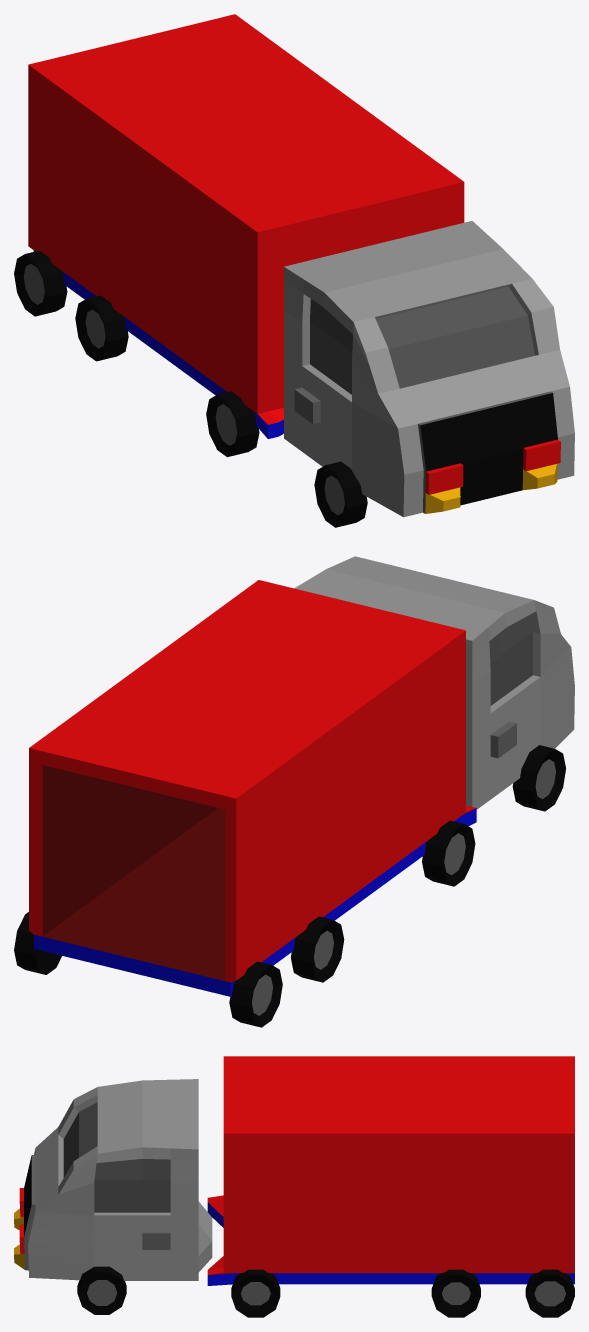
Rendered from Camion.fbx.
3 renders of one model, top to bottom at view 1: azimuth 30°, elevation 25°; view 2: azimuth 150°, elevation 25°; view 3: azimuth 270°, elevation 25°, orthographic. The views are drawn at different scales.
Visible parts, largest first — view 1: Camion; view 2: Camion; view 3: Camion.
Part boxes in pixels (box(x1,y1,x2,y2)): Camion: box(14, 14, 574, 527); Camion: box(14, 556, 574, 1027); Camion: box(14, 1056, 574, 1317).
Bounding box in the file's own units: 1378 × 1301 × 3702.
